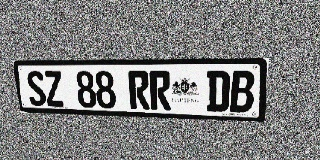8: (75, 71, 97, 108), (94, 71, 116, 108)
B: (230, 71, 255, 113)
D: (206, 71, 230, 112)
R: (128, 71, 150, 110), (149, 71, 171, 110)
S: (25, 71, 47, 106)
Z: (43, 71, 65, 107)
